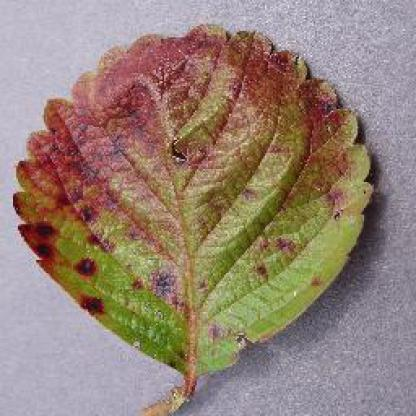leaf scorch: (11, 16, 387, 414)
